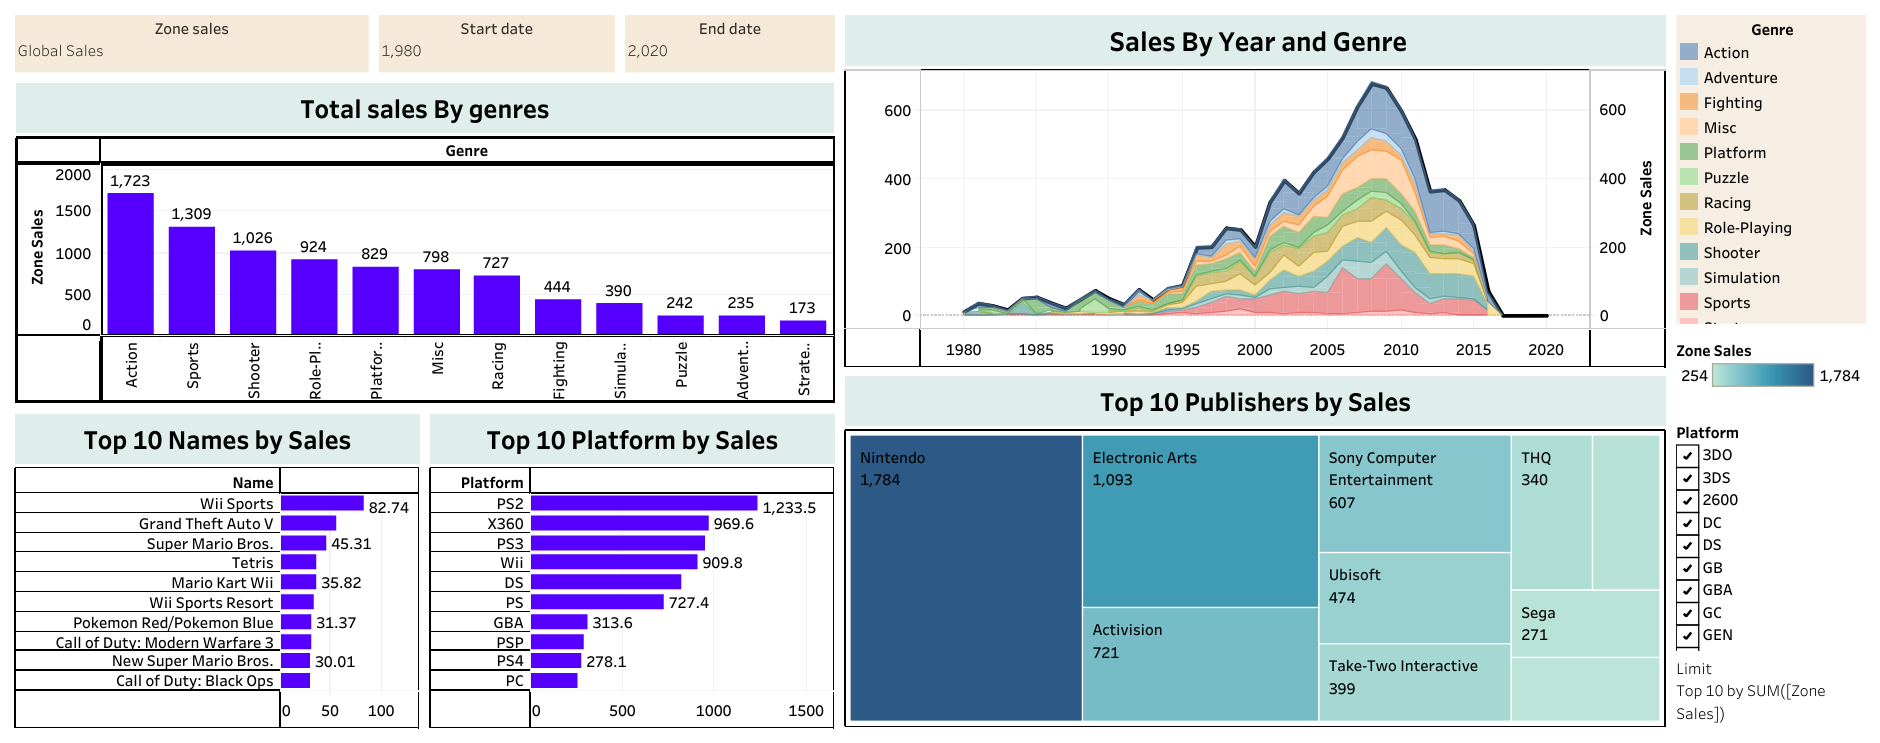

What the dashboard file says about the page in this screenshot:
{"tool":"tableau","page":{"name":"Dashboard 1","canvas":[1000,1000],"units":"permille","ordinal":0},"visuals":[{"type":"parameter","param":"[Parameters].[Parameter 1]","box":[4.9,9.6,195.5,91.5]},{"type":"parameter","param":"[Parameters].[Parameter 2]","box":[200.4,9.6,132.6,91.5]},{"type":"parameter","param":"[Parameters].[Parameter 3]","box":[332.9,9.6,118.2,91.5]},{"type":"worksheet","title":" Sales By Year and Genre","mark":"Automatic","rows":["Calculation_2561985243365638144","Calculation_2561985243365638144"],"cols":["Year"],"box":[451.1,9.6,446.2,490.4]},{"type":"legend","title":" Sales By Year and Genre","param":"[federated.0twfnyi1ekkn0l11ydh0g1i7vv3u].[none:Genre:nk]","box":[897.4,9.6,97.7,339.4]},{"type":"worksheet","title":"Total sales By genres","mark":"Automatic","rows":["Calculation_2561985243365638144"],"cols":["Genre"],"box":[4.9,101.1,446.2,448.9]},{"type":"legend","title":"Top 10 Publishers by Sales","param":"[federated.0twfnyi1ekkn0l11ydh0g1i7vv3u].[sum:Calculation_2561985243365638144:qk","box":[897.4,349,97.7,87.9]},{"type":"filter","title":"Top 10 Platform by Sales","param":"[federated.0twfnyi1ekkn0l11ydh0g1i7vv3u].[none:Platform:nk]","box":[897.4,436.8,97.7,553.5]},{"type":"worksheet","title":"Top 10 Publishers by Sales","mark":"Automatic","box":[451.1,500,446.2,490.4]},{"type":"worksheet","title":"Top 10 Names by Sales","mark":"Automatic","rows":["Name"],"cols":["Calculation_2561985243365638144"],"box":[4.9,549.9,223.1,440.4]},{"type":"worksheet","title":"Top 10 Platform by Sales","mark":"Automatic","rows":["Platform"],"cols":["Calculation_2561985243365638144"],"box":[228,549.9,223.1,440.4]}]}

Visuals, with their boxes on the dashboard's canvas, which has no fixed pixel size, in thousandths of its width and height (x1, y1, x2, y2). These are canvas units, not pixel positions in the 1880x743 screenshot, which may show the page scaled, cropped or inside an application window:
parameter: 5:10:200:101
parameter: 200:10:333:101
parameter: 333:10:451:101
" Sales By Year and Genre" worksheet: 451:10:897:500
" Sales By Year and Genre" legend: 897:10:995:349
"Total sales By genres" worksheet: 5:101:451:550
"Top 10 Publishers by Sales" legend: 897:349:995:437
"Top 10 Platform by Sales" filter: 897:437:995:990
"Top 10 Publishers by Sales" worksheet: 451:500:897:990
"Top 10 Names by Sales" worksheet: 5:550:228:990
"Top 10 Platform by Sales" worksheet: 228:550:451:990
